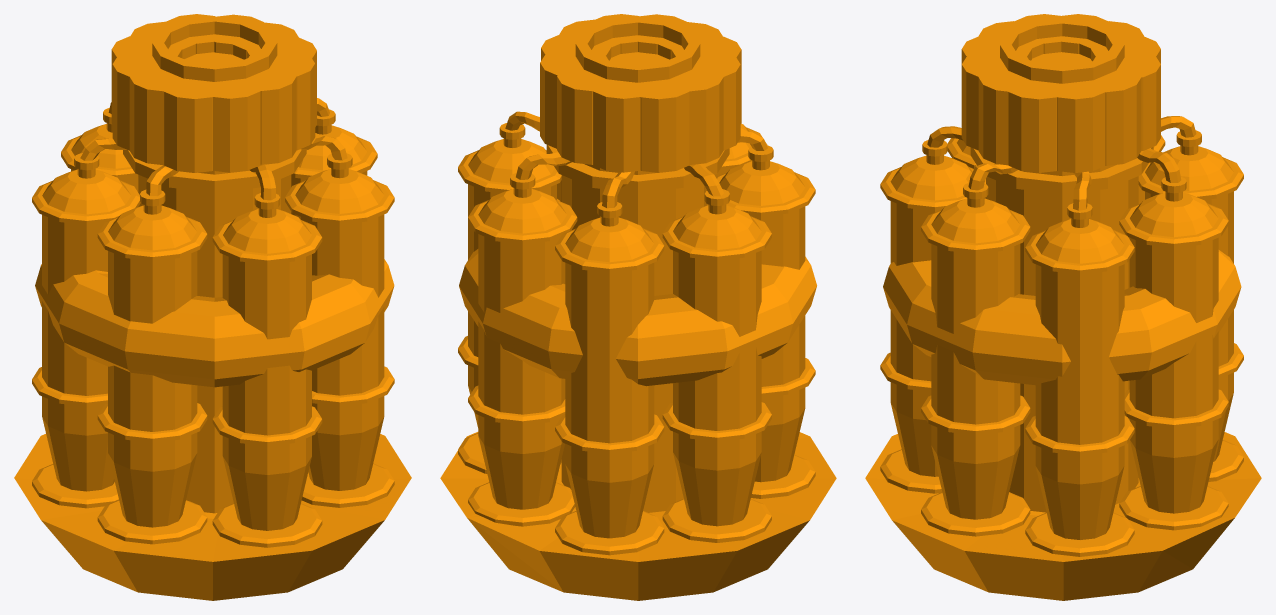
File: bigThrusterNew1.obj
3 renders of one model, left to right at view 1: azimuth 30°, elevation 25°; view 2: azimuth 150°, elevation 25°; view 3: azimuth 270°, elevation 25°, orthographic.
Parts seen in each view (by area): view 1: hugeThruster_mesh173106093.001; view 2: hugeThruster_mesh173106093.001; view 3: hugeThruster_mesh173106093.001.
Part boxes in pixels (left/top/right/bottom): hugeThruster_mesh173106093.001: left=14, top=14, right=411, bottom=600; hugeThruster_mesh173106093.001: left=440, top=14, right=836, bottom=600; hugeThruster_mesh173106093.001: left=865, top=14, right=1261, bottom=600.
Size of the model in its own units: 0.81 by 1.11 by 0.81.
